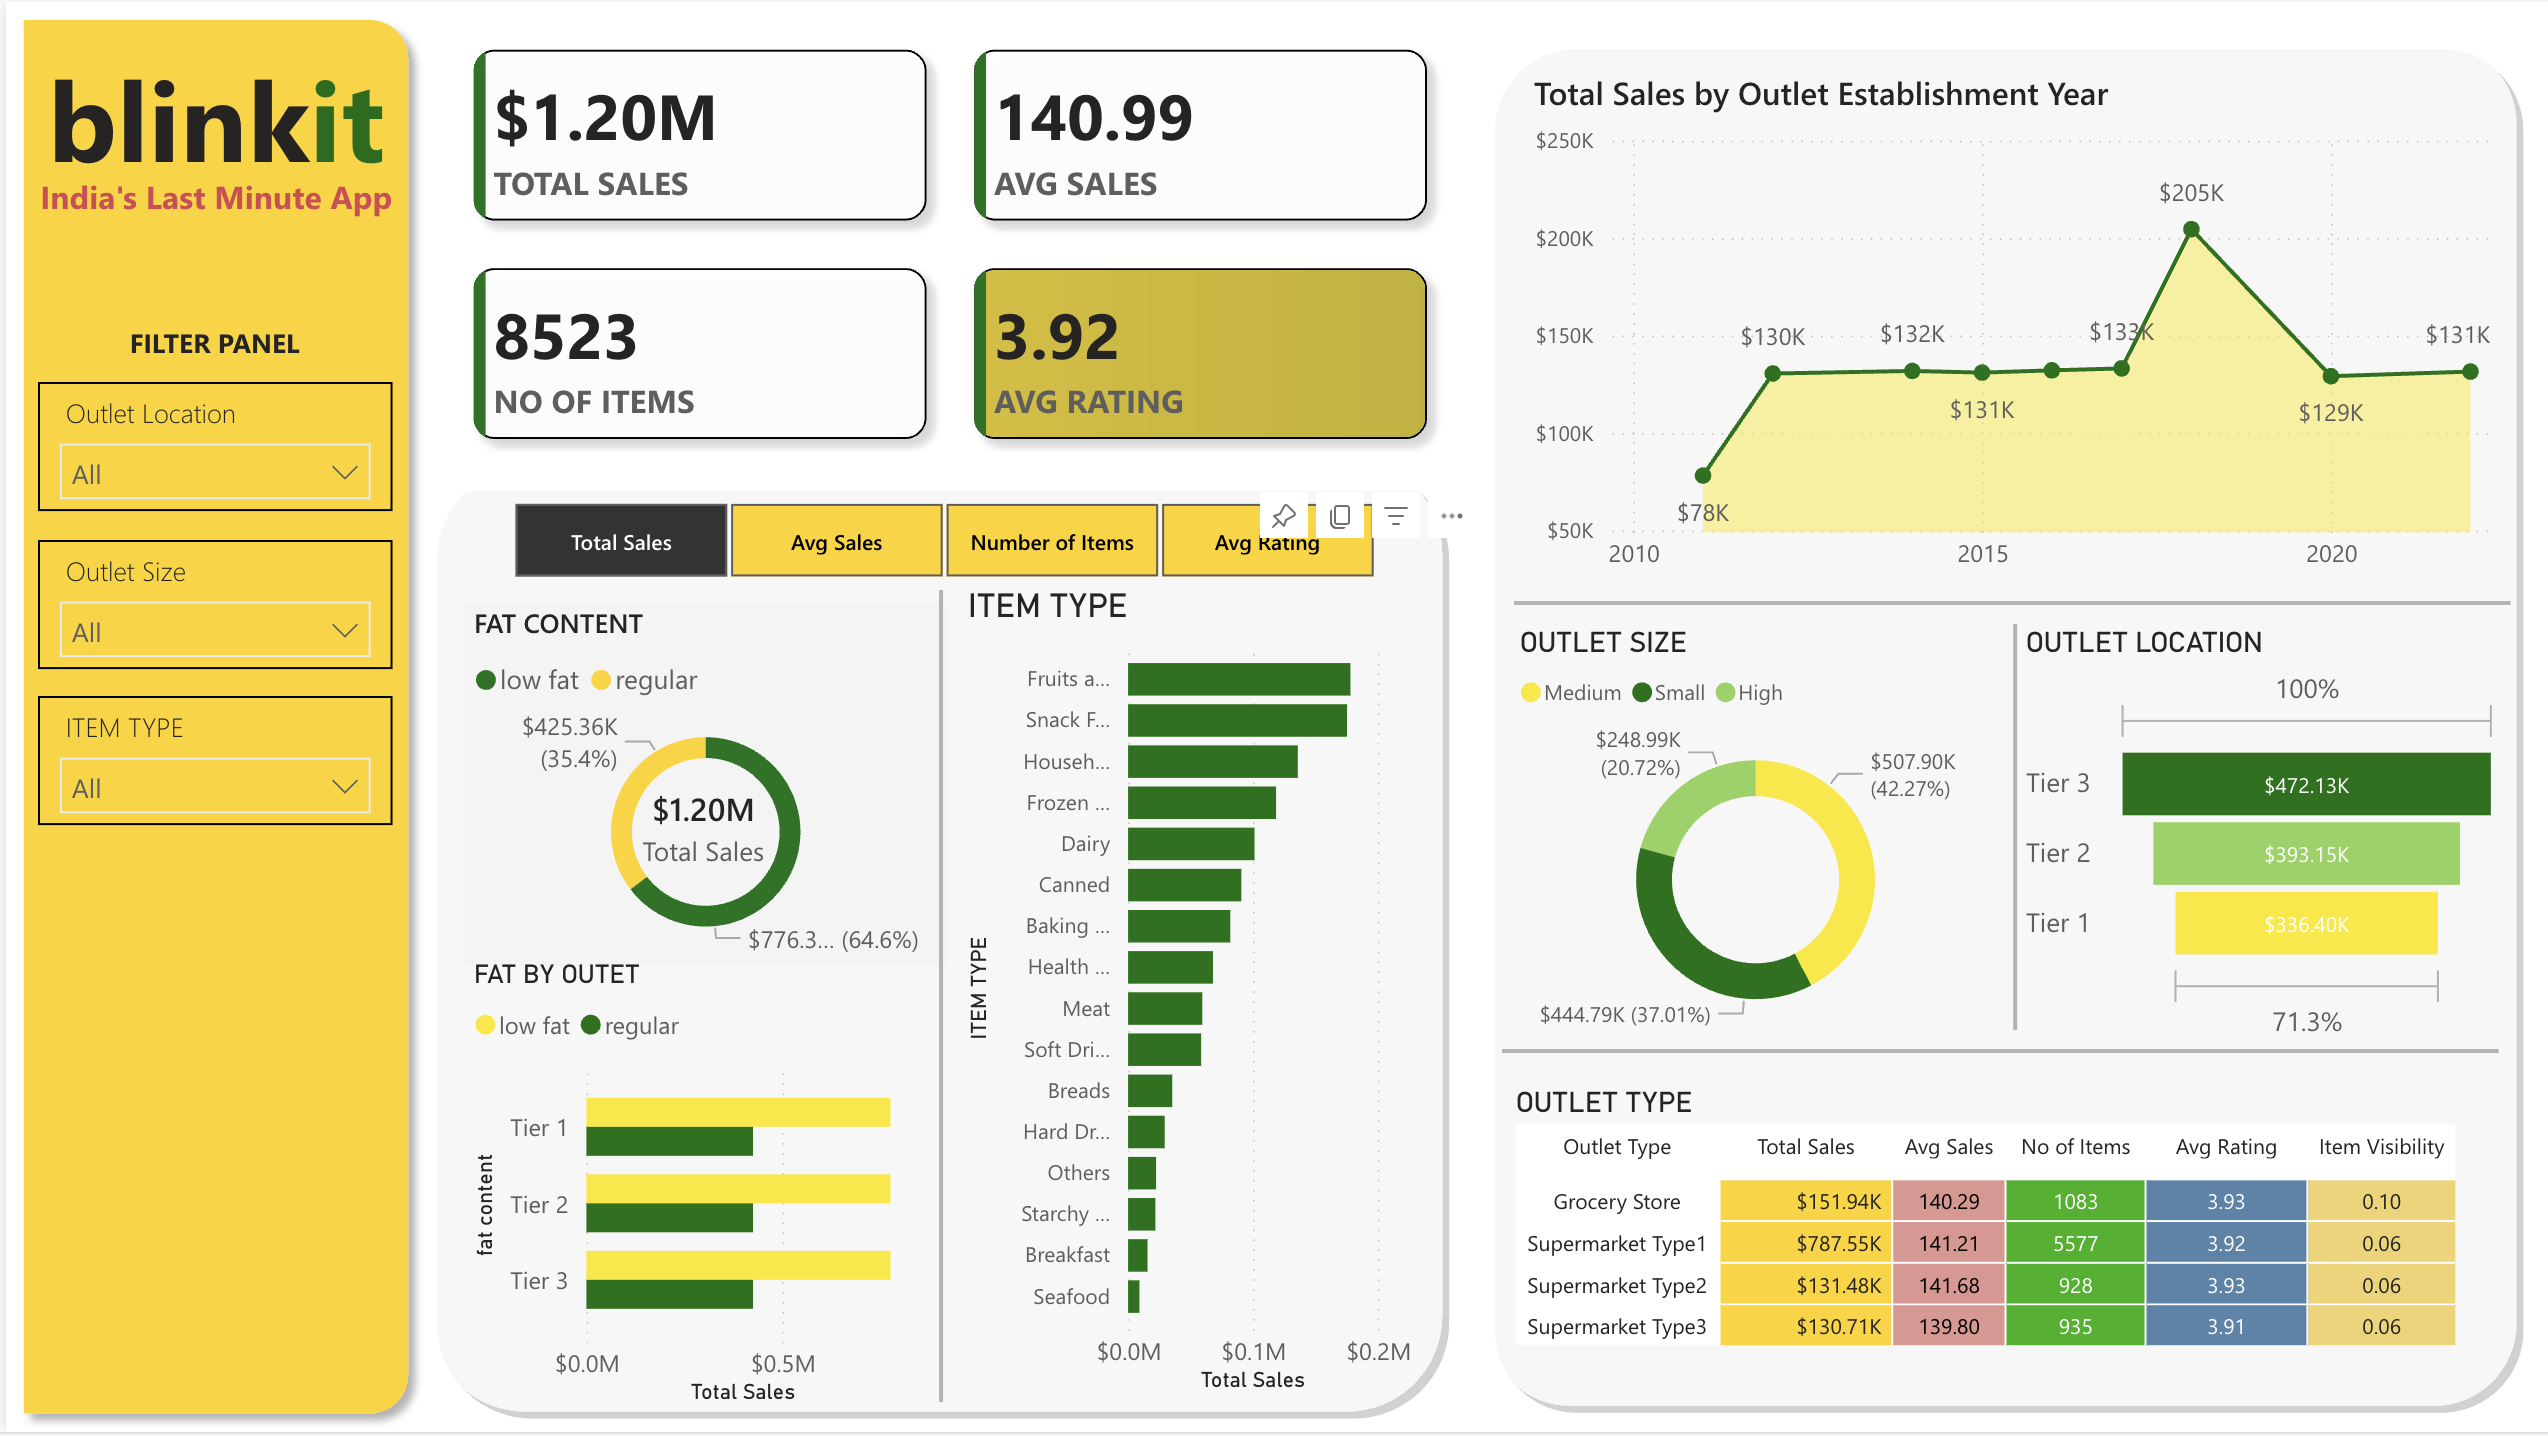

This screenshot's page, from the dashboard's own definition file:
{"tool":"powerbi","page":{"name":"Page 1","canvas":[1280,720],"ordinal":0},"visuals":[{"type":"shape","box":[0,0,211.5,719.7],"z":0},{"type":"textbox","box":[16.4,14.8,195.1,93.4],"z":1000},{"type":"textbox","box":[4.9,82,201.6,52.5],"z":2000},{"type":"cardVisual","fields":{"Data":["BlinkIT Grocery Data.Total Sales","BlinkIT Grocery Data.Avg Sales","BlinkIT Grocery Data.Number of Items","BlinkIT Grocery Data.Average Rating"]},"box":[211.5,0,529.5,245.9],"z":3000},{"type":"shape","box":[208.2,224.6,519.7,490.2],"z":4000},{"type":"slicer","fields":{"Values":["Parameter.Parameter"]},"box":[230.3,245.4,481.8,50.5],"z":5000},{"type":"donutChart","title":"FAT CONTENT","fields":{"Y":["BlinkIT Grocery Data.Total Sales"],"Category":["BlinkIT Grocery Data.Item Fat Content"]},"box":[230.3,303,243.4,181.8],"z":6000},{"type":"cardVisual","fields":{"Data":["BlinkIT Grocery Data.Total Sales"]},"box":[307.3,382.7,88.2,65.5],"z":7000},{"type":"clusteredBarChart","title":"FAT BY OUTET","fields":{"Y":["BlinkIT Grocery Data.Total Sales"],"Category":["Table1.Outlet Location Type"],"Series":["BlinkIT Grocery Data.Item Fat Content"]},"box":[230.3,483.8,241.4,227.3],"z":8000},{"type":"shape","box":[462.6,296,17.2,409.1],"z":9000},{"type":"barChart","title":"ITEM TYPE","fields":{"Y":["BlinkIT Grocery Data.Total Sales"],"Category":["BlinkIT Grocery Data.Item Type"]},"box":[479.8,296,233.3,408.1],"z":10000},{"type":"shape","box":[741,14.8,527.9,696.7],"z":11000},{"type":"lineChart","fields":{"Y":["BlinkIT Grocery Data.Total Sales"],"Category":["BlinkIT Grocery Data.Outlet Establishment Year"]},"box":[764.5,34.5,494.6,261.8],"z":12000},{"type":"shape","box":[759.1,283.6,501.8,37.3],"z":13000},{"type":"donutChart","title":"OUTLET SIZE","fields":{"Category":["BlinkIT Grocery Data.Outlet Size"],"Y":["BlinkIT Grocery Data.Total Sales"]},"box":[757.3,315.4,247.3,213.6],"z":14000},{"type":"funnel","title":"OUTLET LOCATION","fields":{"Y":["BlinkIT Grocery Data.Total Sales"],"Category":["BlinkIT Grocery Data.Outlet Location Type"]},"box":[1011.8,315.4,249.1,213.6],"z":15000},{"type":"shape","box":[1002.7,312.7,17.3,204.6],"z":16000},{"type":"shape","box":[753.6,510,501.8,37.3],"z":17000},{"type":"pivotTable","title":"OUTLET TYPE","fields":{"Rows":["BlinkIT Grocery Data.Outlet Type"],"Values":["BlinkIT Grocery Data.Total Sales","BlinkIT Grocery Data.Avg Sales","BlinkIT Grocery Data.Number of Items","BlinkIT Grocery Data.Avg Rating","Avg(BlinkIT Grocery Data.Item Visibility)"]},"box":[755.5,547.3,498.2,145.4],"z":18000},{"type":"slicer","fields":{"Values":["BlinkIT Grocery Data.Outlet Location Type"]},"box":[15.9,191.3,178.3,65.2],"z":19000},{"type":"slicer","fields":{"Values":["BlinkIT Grocery Data.Outlet Size"]},"box":[15.9,271,178.3,65.2],"z":20000},{"type":"slicer","fields":{"Values":["BlinkIT Grocery Data.Item Type"]},"box":[15.9,349.3,178.3,65.2],"z":20001},{"type":"textbox","box":[48.5,156.7,113.4,28.4],"z":20002}]}

Visuals, with their boxes in screenshot pixels (x1, y1, x2, y2), scaled from the page's 1280x720 canvas onto the 2548x1436 screenshot:
shape: 0,0,421,1435
textbox: 33,30,421,216
textbox: 10,164,411,268
cardVisual - BlinkIT Grocery Data.Total Sales x BlinkIT Grocery Data.Avg Sales: 421,0,1475,490
shape: 414,448,1449,1426
slicer - Parameter.Parameter: 458,489,1418,590
"FAT CONTENT" donutChart: 458,604,943,967
cardVisual - BlinkIT Grocery Data.Total Sales: 612,763,787,894
"FAT BY OUTET" clusteredBarChart: 458,965,939,1418
shape: 921,590,955,1406
"ITEM TYPE" barChart: 955,590,1420,1404
shape: 1475,30,2526,1419
lineChart - BlinkIT Grocery Data.Total Sales x BlinkIT Grocery Data.Outlet Establishment Year: 1522,69,2506,591
shape: 1511,566,2510,640
"OUTLET SIZE" donutChart: 1508,629,2000,1055
"OUTLET LOCATION" funnel: 2014,629,2510,1055
shape: 1996,624,2030,1032
shape: 1500,1017,2499,1092
"OUTLET TYPE" pivotTable: 1504,1092,2496,1382
slicer - BlinkIT Grocery Data.Outlet Location Type: 32,382,387,512
slicer - BlinkIT Grocery Data.Outlet Size: 32,540,387,671
slicer - BlinkIT Grocery Data.Item Type: 32,697,387,827
textbox: 97,313,322,369
